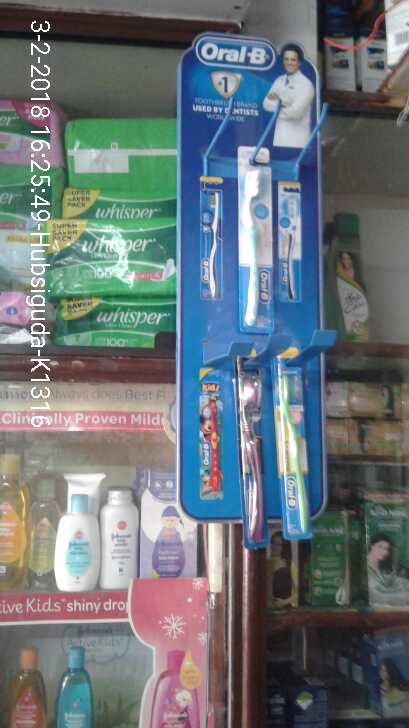pharmacy: (52, 218, 177, 298), (61, 117, 178, 196), (234, 353, 274, 549), (275, 354, 316, 538), (237, 147, 275, 333), (50, 294, 178, 347), (58, 188, 180, 222)
